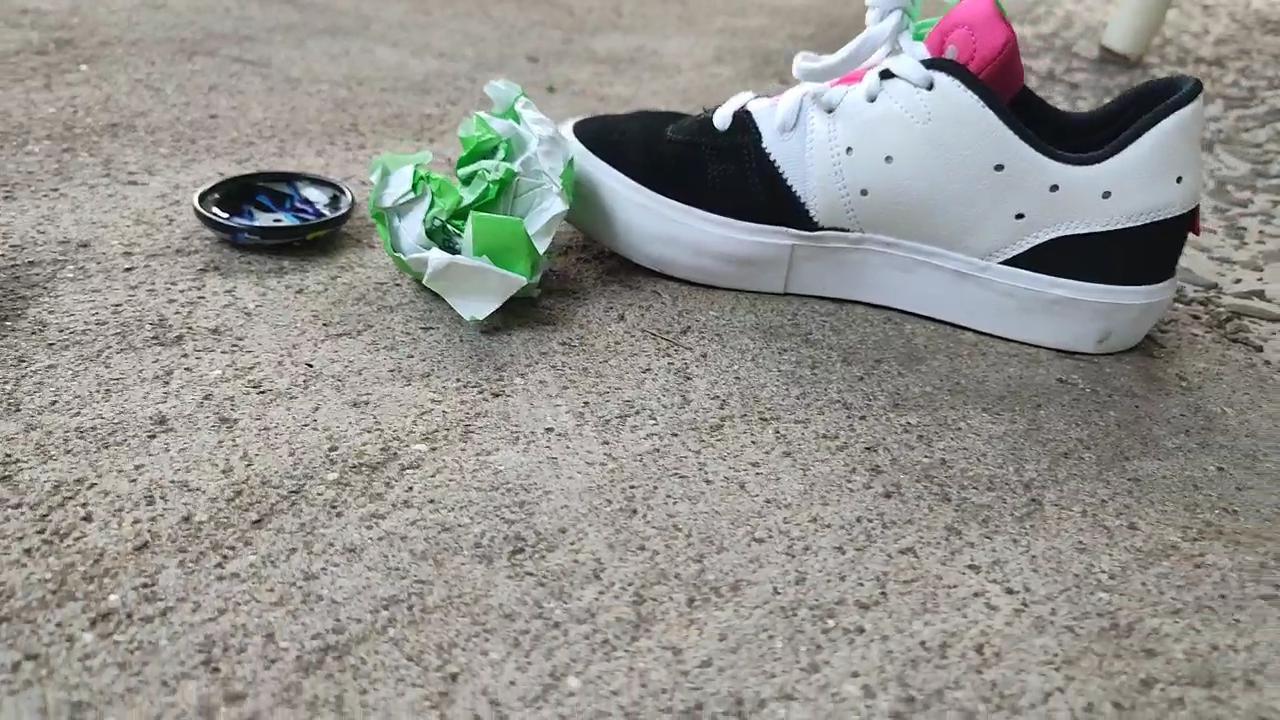Paper: (364, 61, 581, 362)
